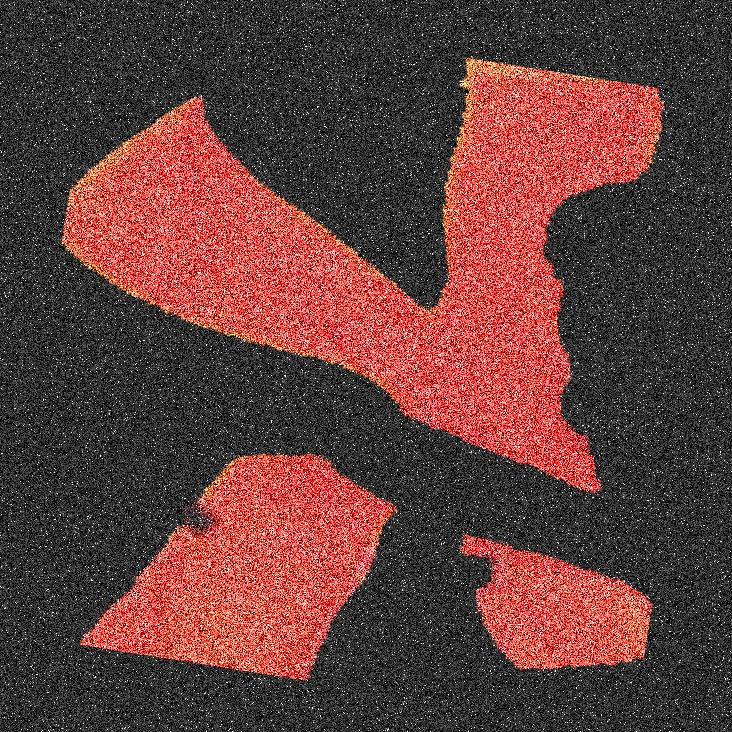Colete: (204, 0, 295, 731)
